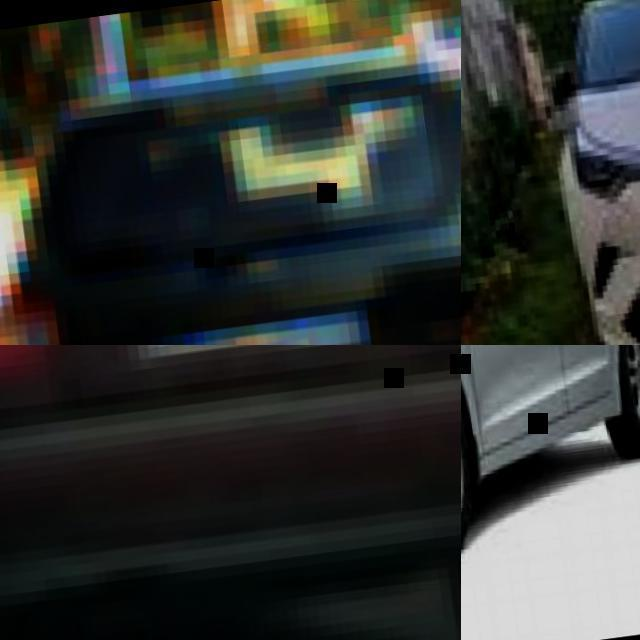car: (555, 0, 640, 302), (382, 364, 406, 387)
